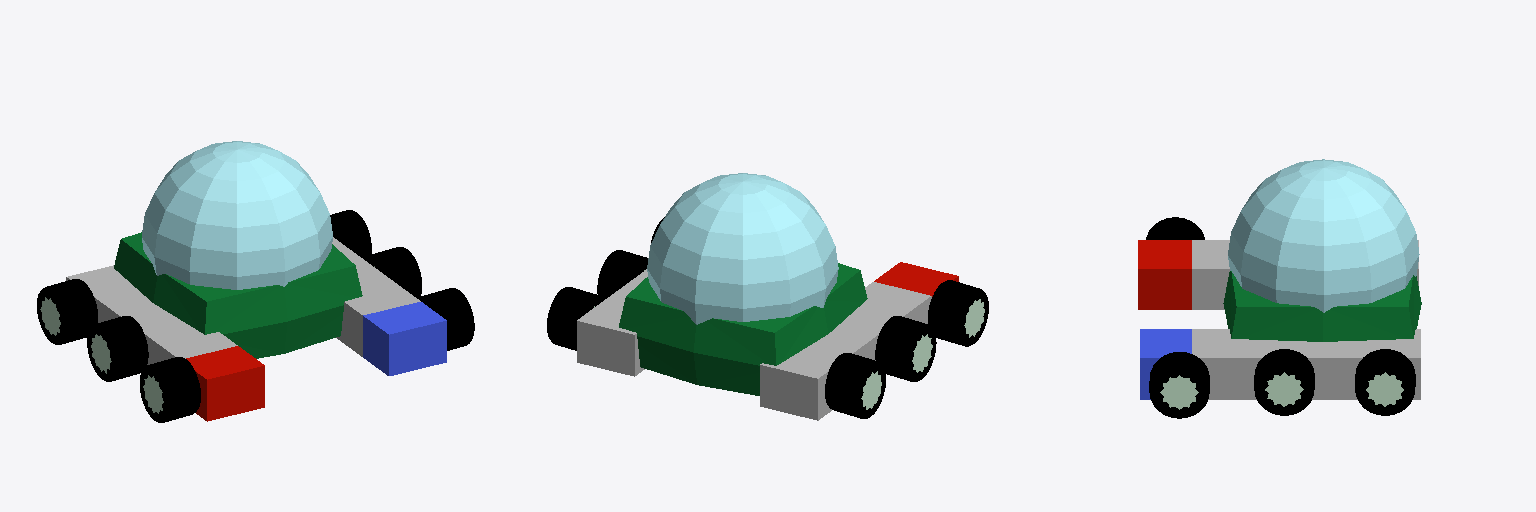
File: cart_obj.obj
3 renders of one model, left to right at view 1: azimuth 30°, elevation 25°; view 2: azimuth 150°, elevation 25°; view 3: azimuth 270°, elevation 25°, orthographic.
Parts seen in each view (by area): view 1: sphere01, mesh12, mesh05, mesh04, mesh06, mesh08, mesh07, mesh09, mesh11, mesh10; view 2: sphere01, mesh12, mesh05, mesh04, mesh07, mesh06, mesh08, mesh10, mesh11; view 3: sphere01, mesh04, mesh12, mesh05, mesh10, mesh11, mesh09, mesh06.
Boxes of the visible parts, <box> form: sphere01: <box>142,141,332,289</box>; mesh12: <box>114,232,362,358</box>; mesh05: <box>66,265,264,421</box>; mesh04: <box>332,237,446,375</box>; mesh06: <box>140,357,200,422</box>; mesh08: <box>87,316,148,381</box>; mesh07: <box>37,279,97,344</box>; mesh09: <box>418,288,474,350</box>; mesh11: <box>364,247,421,298</box>; mesh10: <box>330,210,371,258</box>; sphere01: <box>647,173,838,324</box>; mesh12: <box>619,263,867,395</box>; mesh05: <box>760,262,958,420</box>; mesh04: <box>577,269,647,376</box>; mesh07: <box>825,353,885,418</box>; mesh06: <box>928,280,988,346</box>; mesh08: <box>875,316,936,381</box>; mesh10: <box>547,287,604,350</box>; mesh11: <box>597,250,647,298</box>; sphere01: <box>1228,159,1419,312</box>; mesh04: <box>1140,329,1420,399</box>; mesh12: <box>1223,271,1421,341</box>; mesh05: <box>1138,240,1418,309</box>; mesh10: <box>1355,349,1415,415</box>; mesh11: <box>1254,349,1314,415</box>; mesh09: <box>1149,352,1209,418</box>; mesh06: <box>1146,217,1204,239</box>.
Bounding box in the file's own units: 30.54 × 16.9 × 24.22.